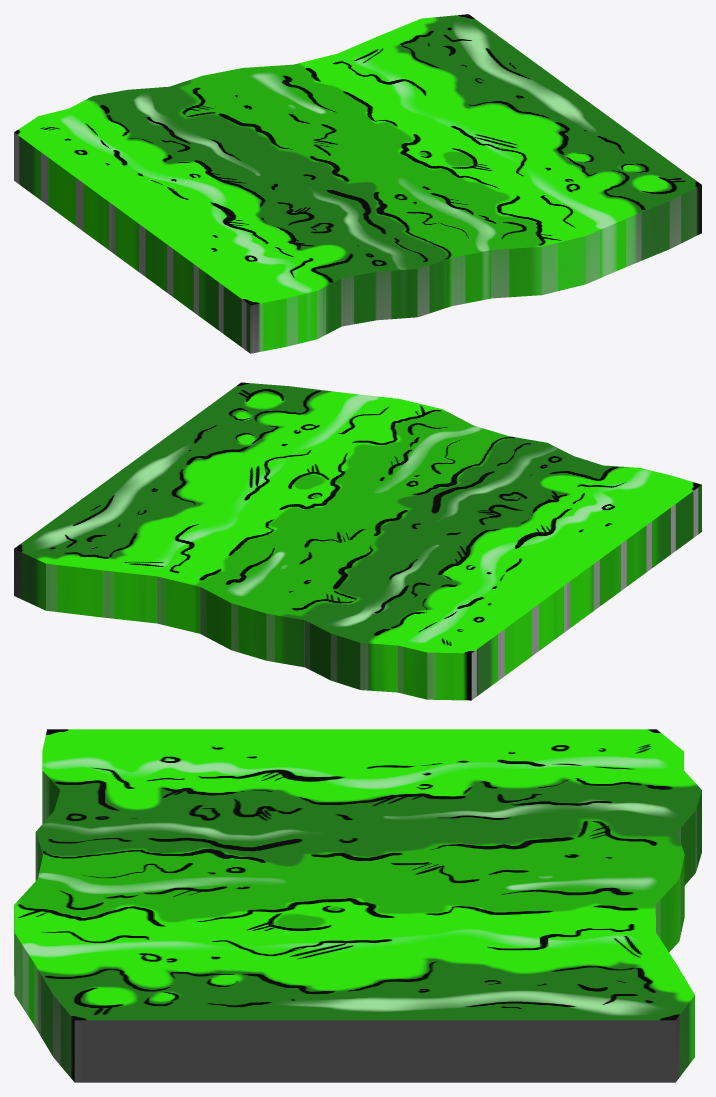
The model's file is accramp.obj.
The picture shows the model from 3 angles, top to bottom: view 1: azimuth 30°, elevation 25°; view 2: azimuth 150°, elevation 25°; view 3: azimuth 270°, elevation 25°; orthographic projection. The views are drawn at different scales.
Visible parts, largest first — view 1: BezierCurve_CUBezierCurve; view 2: BezierCurve_CUBezierCurve; view 3: BezierCurve_CUBezierCurve.
Boxes of the visible parts, x1=… form: BezierCurve_CUBezierCurve: x1=14, y1=14, x2=701, y2=353; BezierCurve_CUBezierCurve: x1=14, y1=382, x2=701, y2=700; BezierCurve_CUBezierCurve: x1=14, y1=729, x2=701, y2=1082.
Size of the model in its own units: 1 by 0.1 by 1.
1 material, 1 textured.
